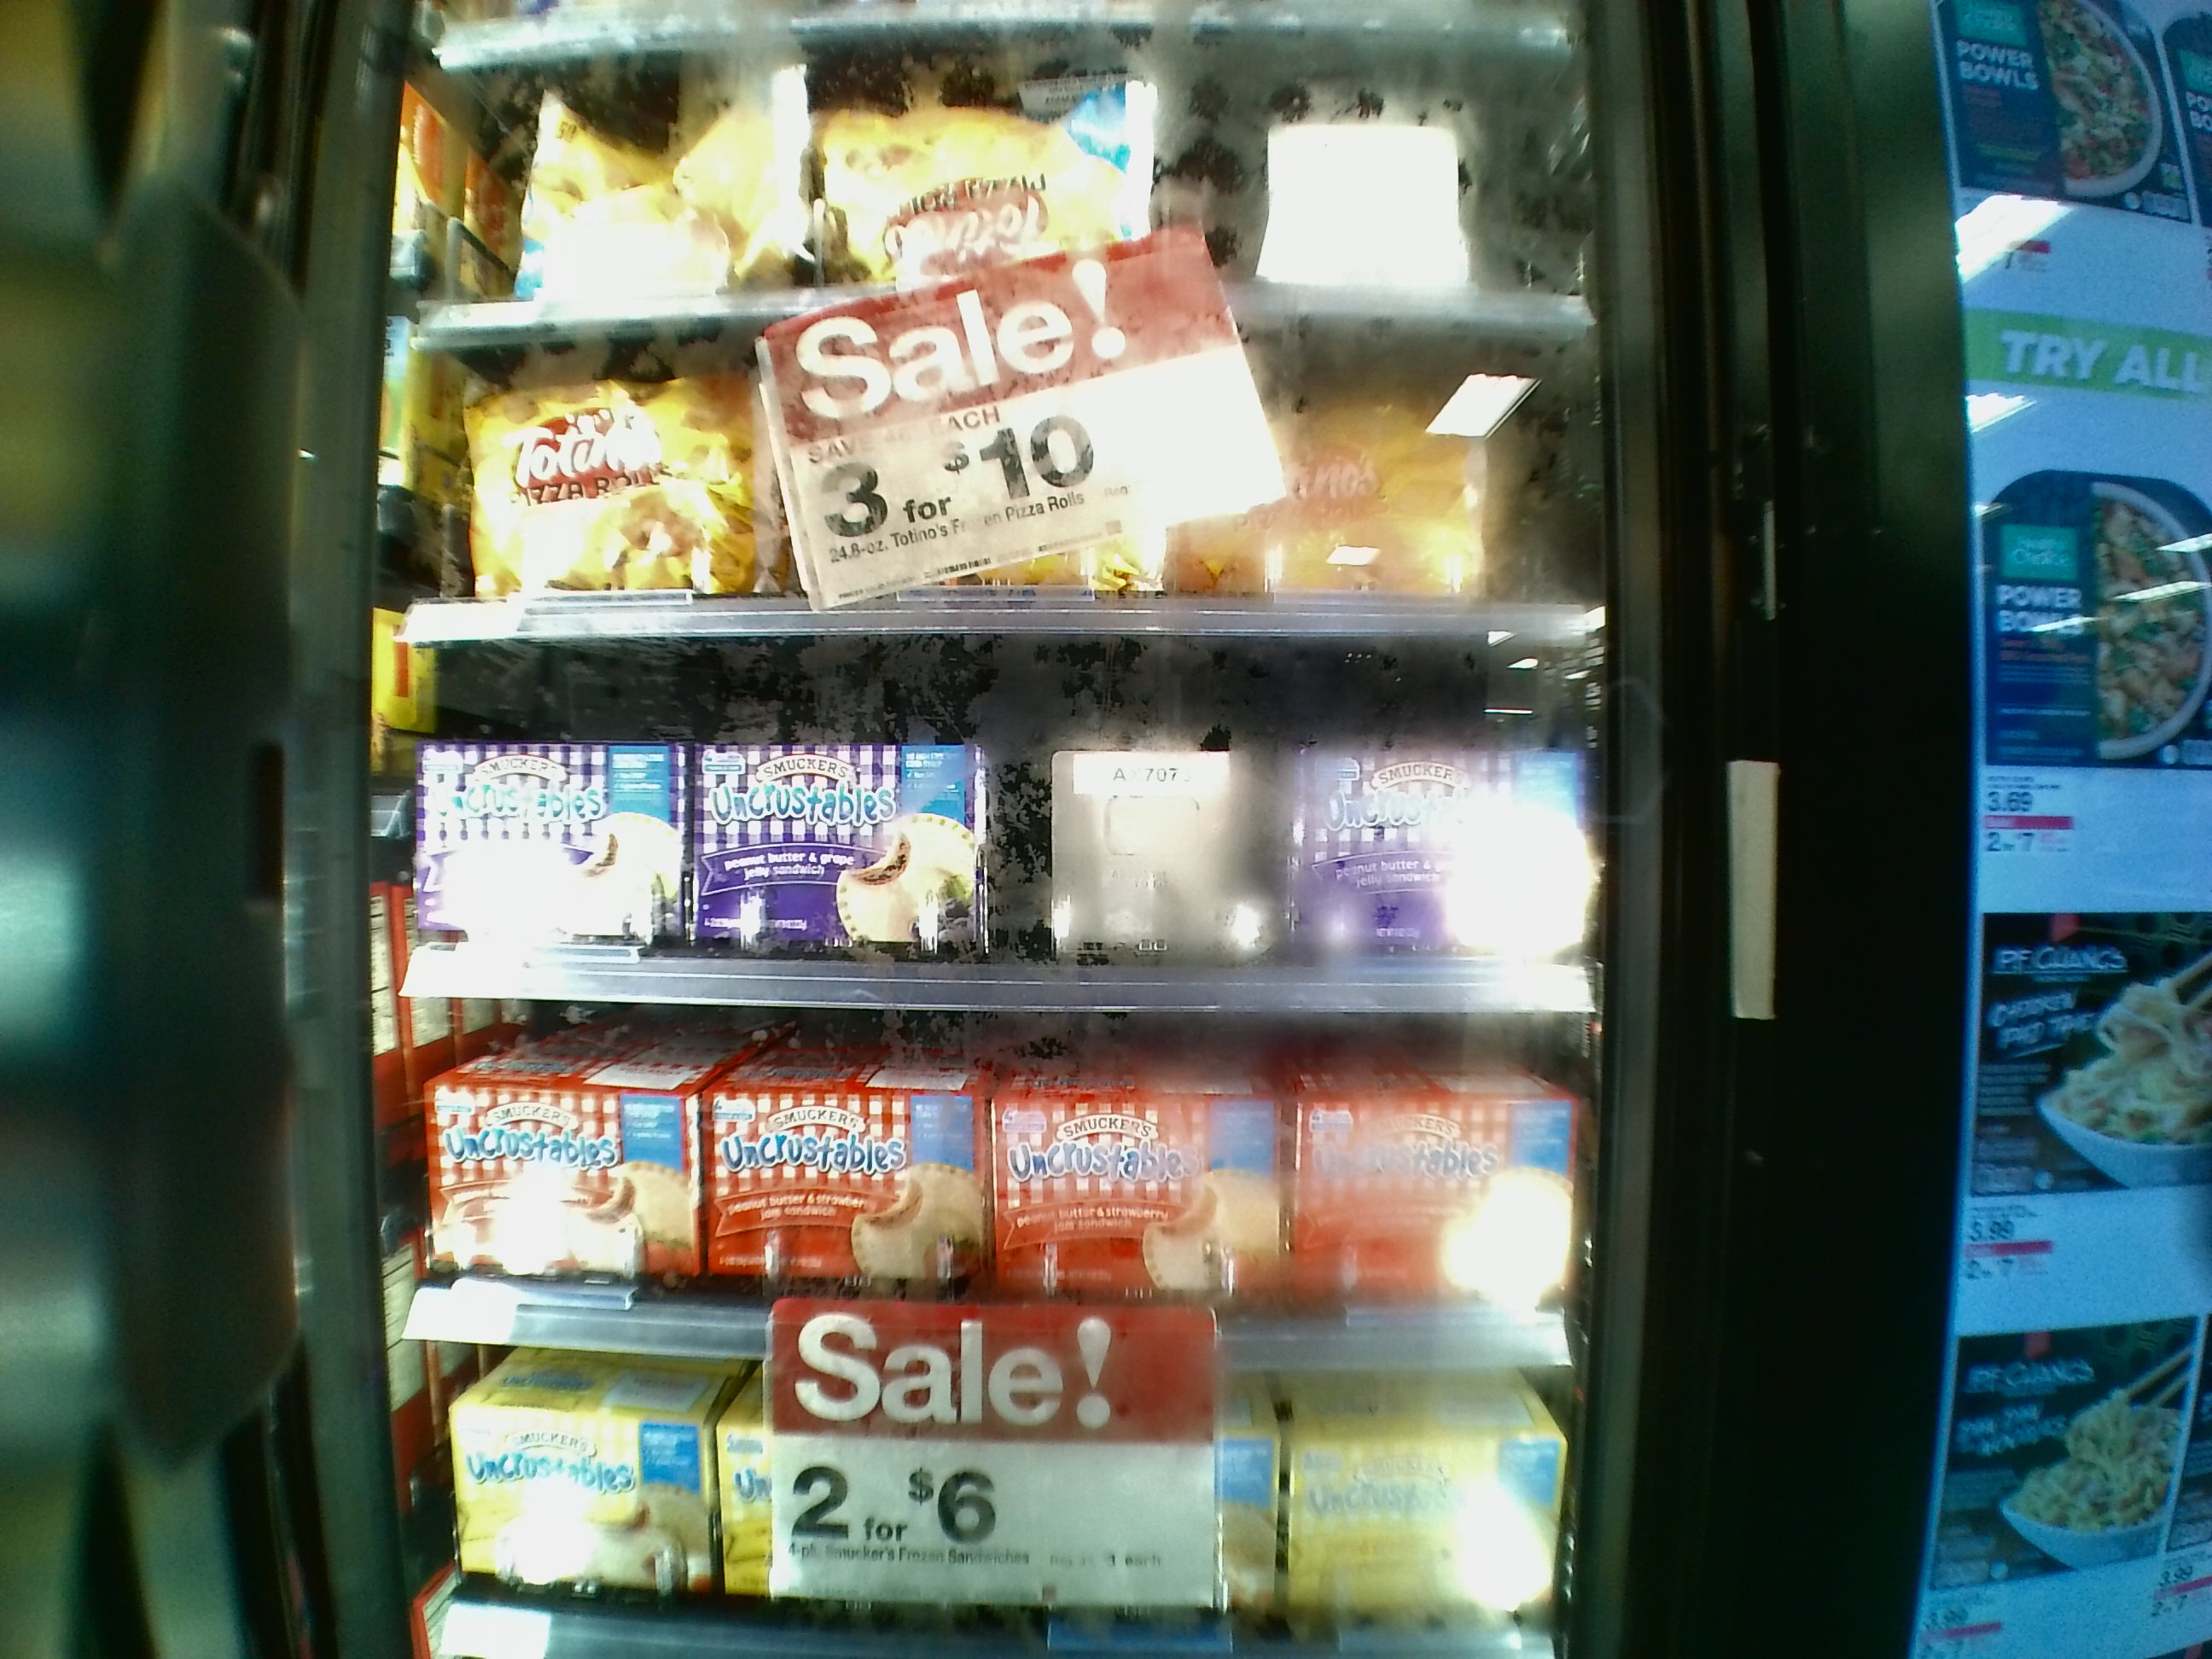shelf: (404, 650, 1592, 1021), (388, 1019, 1581, 1366), (413, 343, 1613, 655), (418, 73, 1597, 324)
